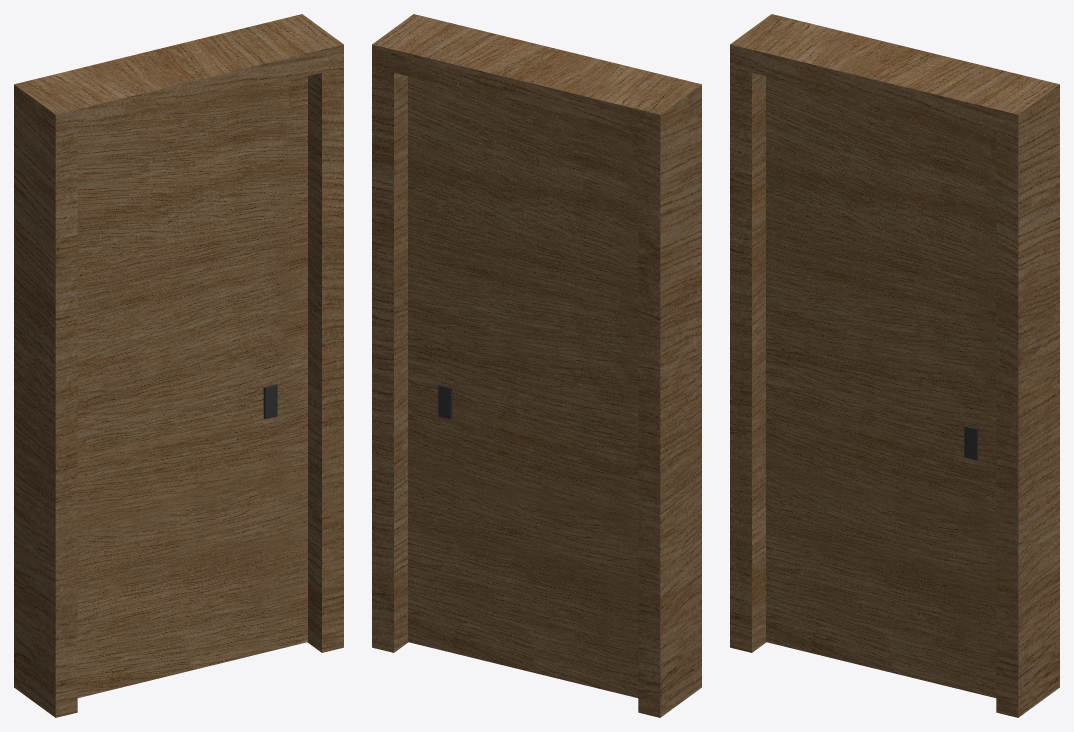
Rendered from Door.fbx.
The picture shows the model from 3 angles, left to right: view 1: azimuth 30°, elevation 25°; view 2: azimuth 150°, elevation 25°; view 3: azimuth 330°, elevation 25°; orthographic projection.
Parts seen in each view (by area): view 1: Sheet, Door; view 2: Sheet, Door; view 3: Sheet, Door.
Part boxes in pixels (x1,y1,x2,y2): Sheet: [77, 76, 307, 697]; Door: [14, 14, 343, 717]; Sheet: [408, 76, 638, 697]; Door: [372, 14, 701, 717]; Sheet: [766, 76, 996, 697]; Door: [730, 14, 1059, 717].
Size of the model in its own units: 240 by 480 by 60.
